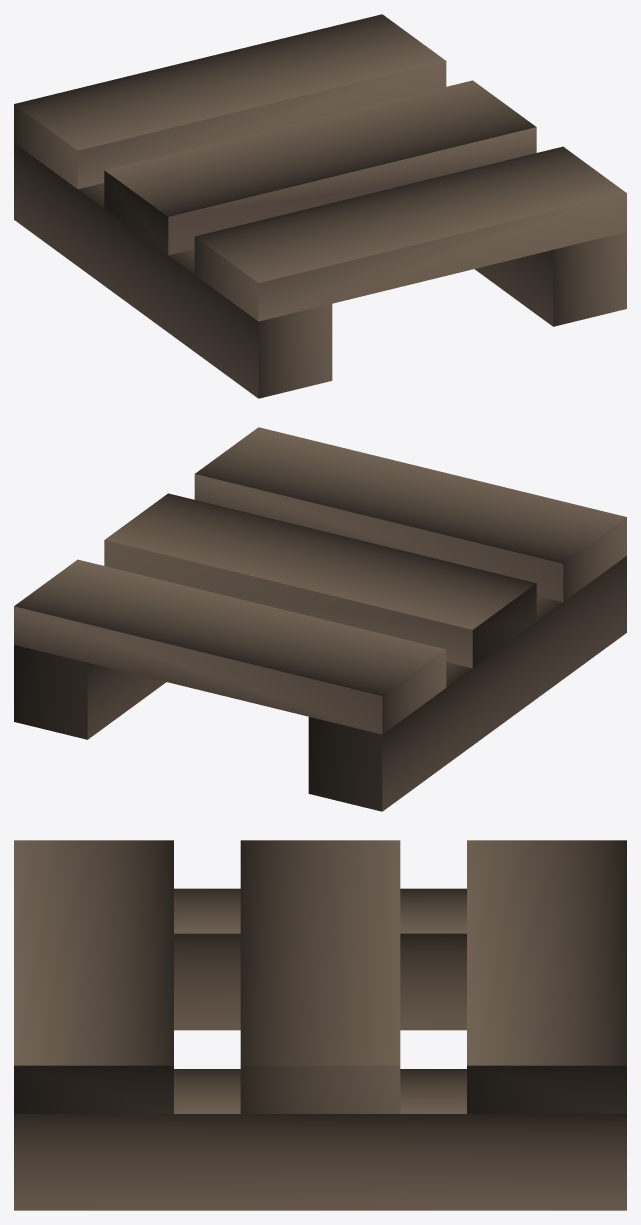
The model's file is pallet-small.glb.
3 views of the same model, one above another, from view 1: azimuth 30°, elevation 25°; view 2: azimuth 150°, elevation 25°; view 3: azimuth 270°, elevation 25° (orthographic). The views are drawn at different scales.
Visible parts, largest first — view 1: pallet-small; view 2: pallet-small; view 3: pallet-small.
Boxes of the visible parts, x1,y1,x2,y2 form: pallet-small: (14, 14, 626, 398); pallet-small: (14, 427, 626, 811); pallet-small: (14, 840, 626, 1210).
Size of the model in its own units: 0.5 by 0.15 by 0.575.
